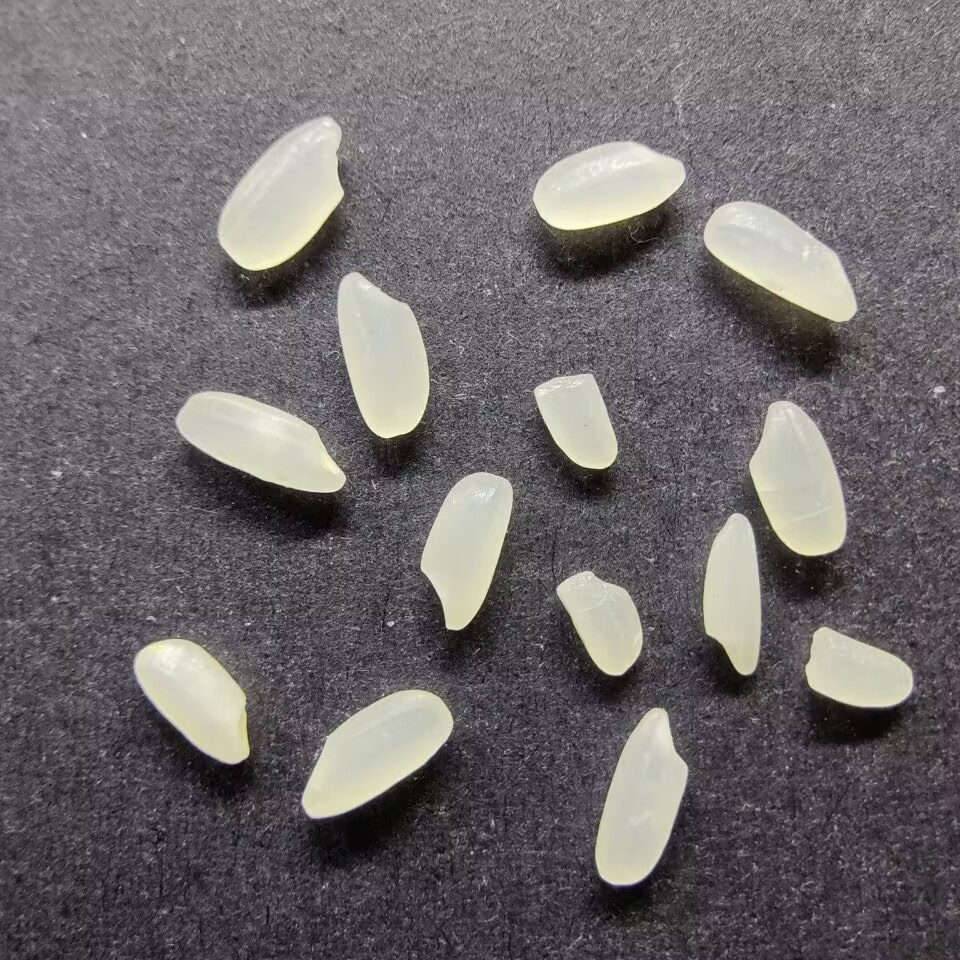broken: (554, 568, 646, 677), (803, 624, 917, 709), (529, 371, 621, 471)
rice: (299, 687, 455, 822), (214, 116, 344, 272), (701, 200, 860, 323), (592, 704, 690, 890), (174, 390, 347, 494), (333, 270, 431, 439), (746, 398, 848, 557), (129, 638, 253, 765), (418, 469, 512, 633), (531, 139, 687, 230), (700, 511, 763, 676)
